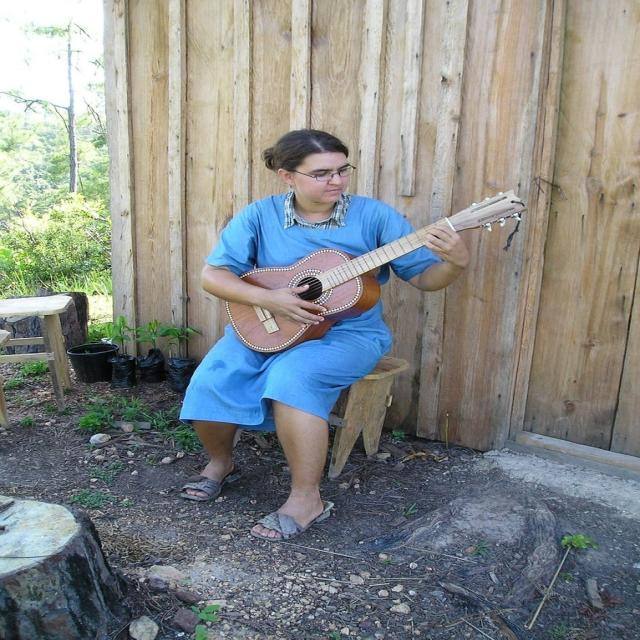guitar: (225, 190, 528, 355)
